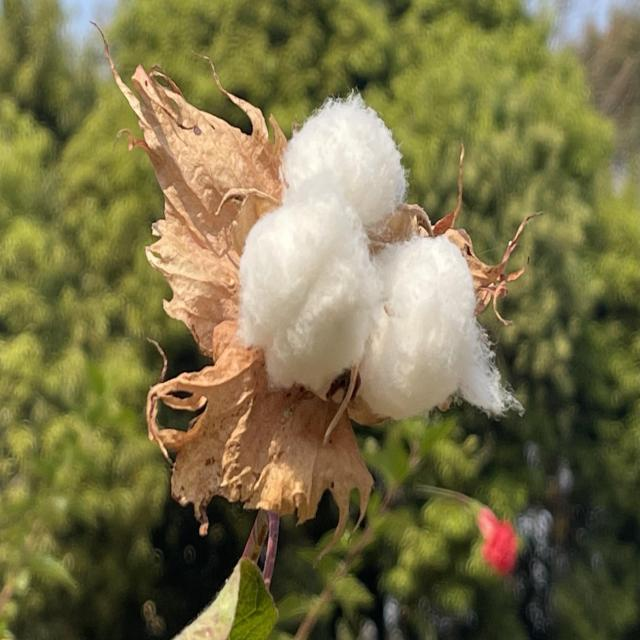Early_blight: (230, 94, 491, 408)
